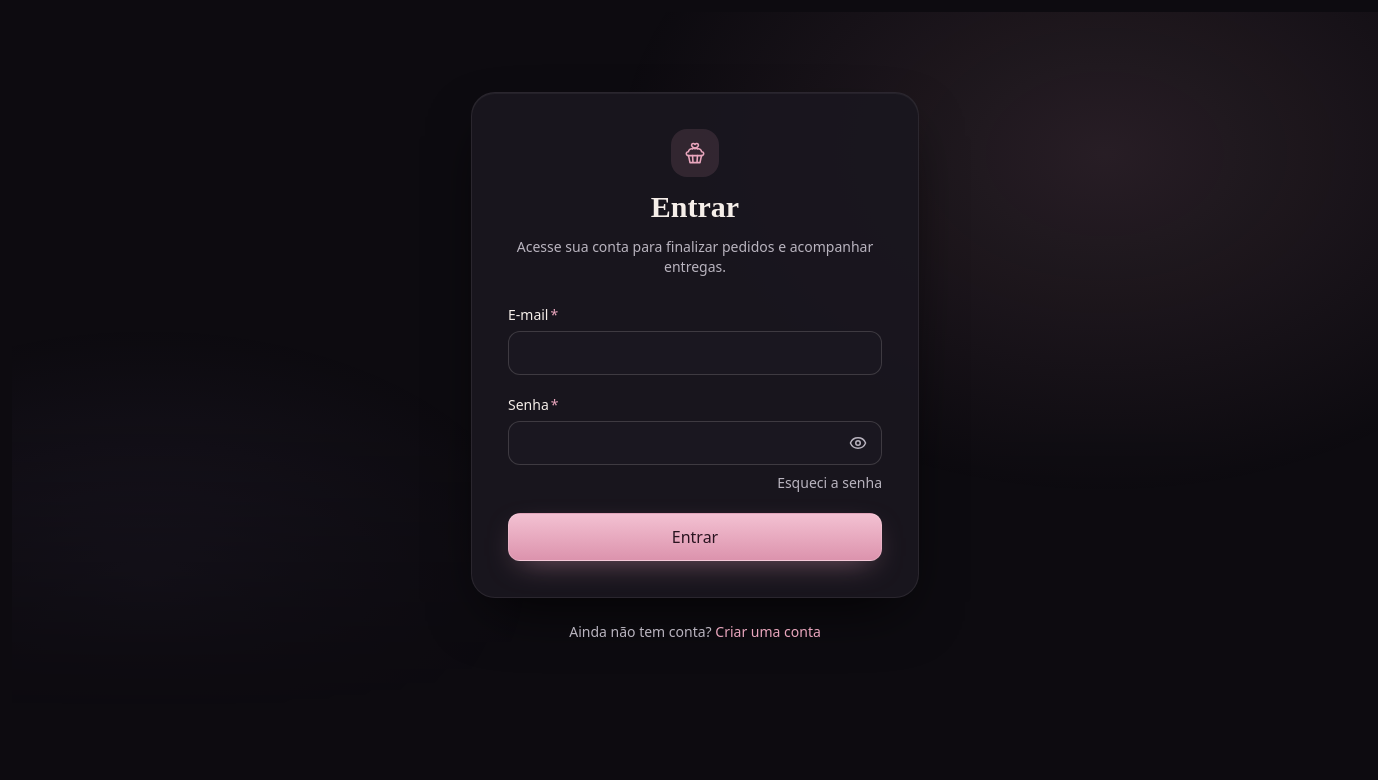
Test: LoginPage › ignora redirecionamentos externos
In the field labelled "E-mail*": {"x": 695, "y": 353} [508,331,882,375], type "maria@example.com"
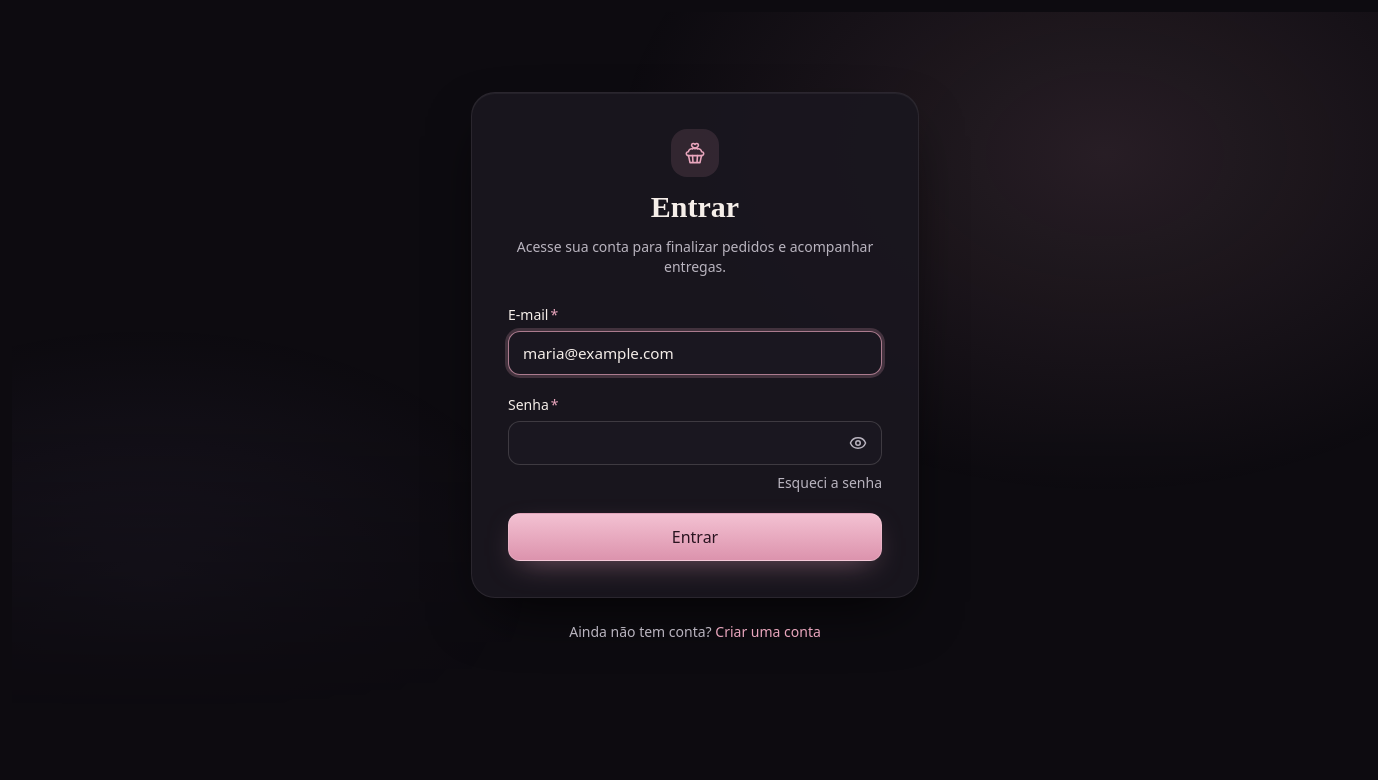
In the password field labelled "Senha*": {"x": 695, "y": 443} [508,421,882,465], type "cupcake2026"
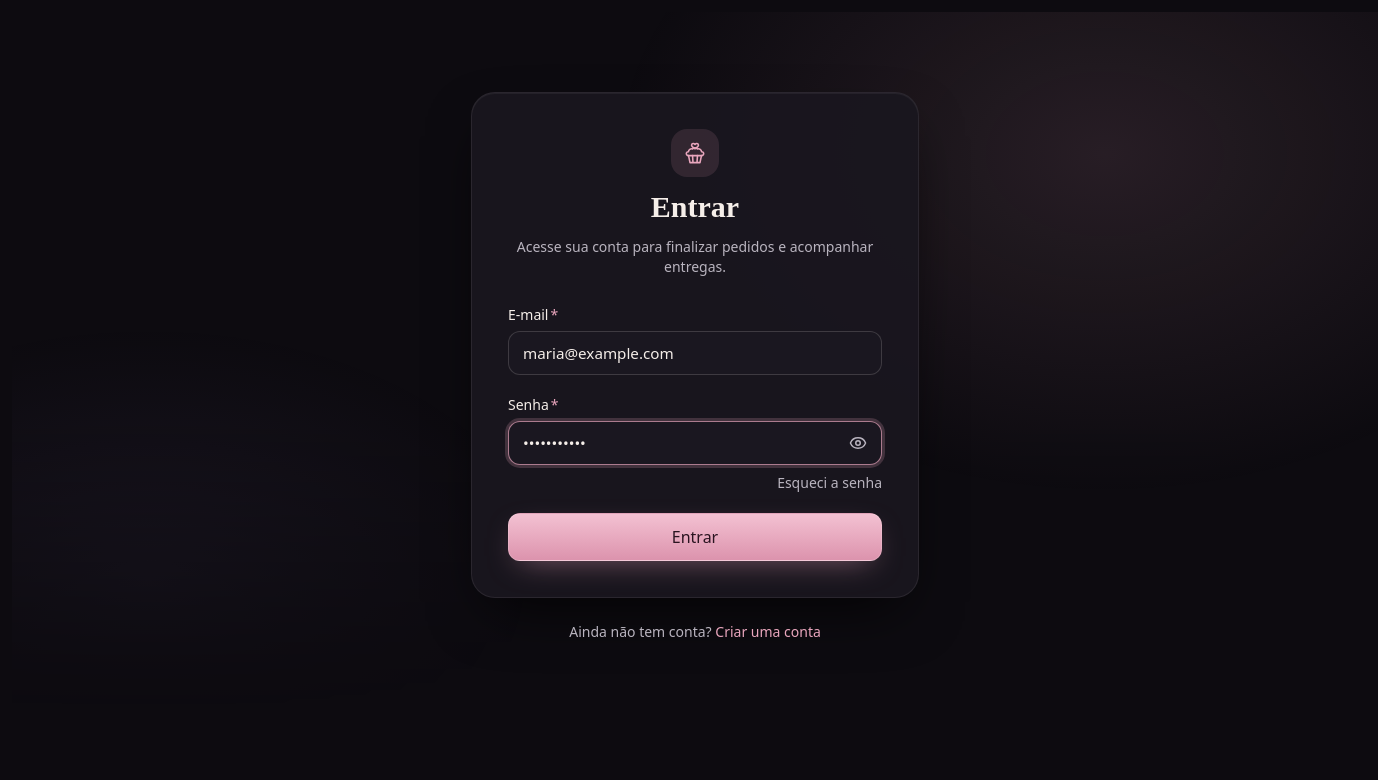
Click the button "Entrar": {"x": 695, "y": 537} [508,513,882,561]
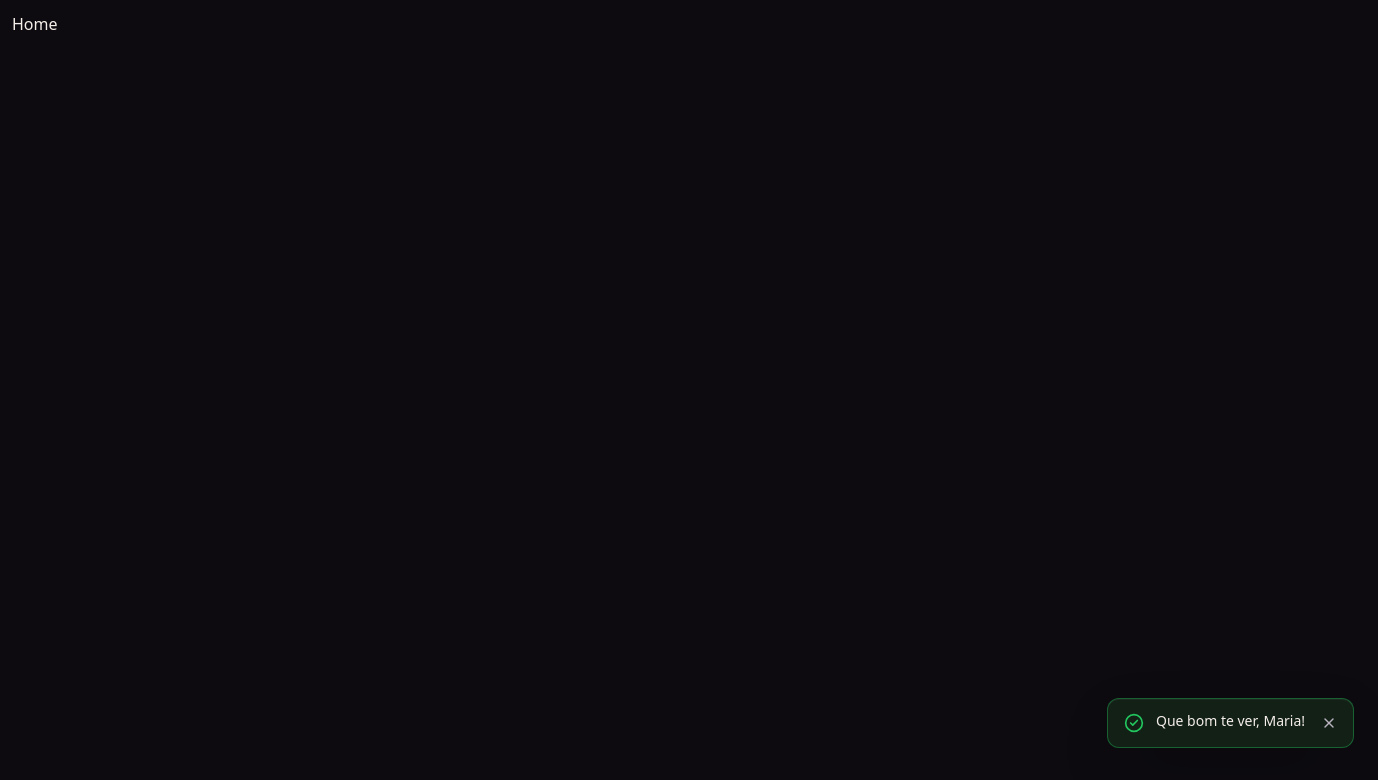
Expected: the heading "Home" is shown, [12,13,58,35]
